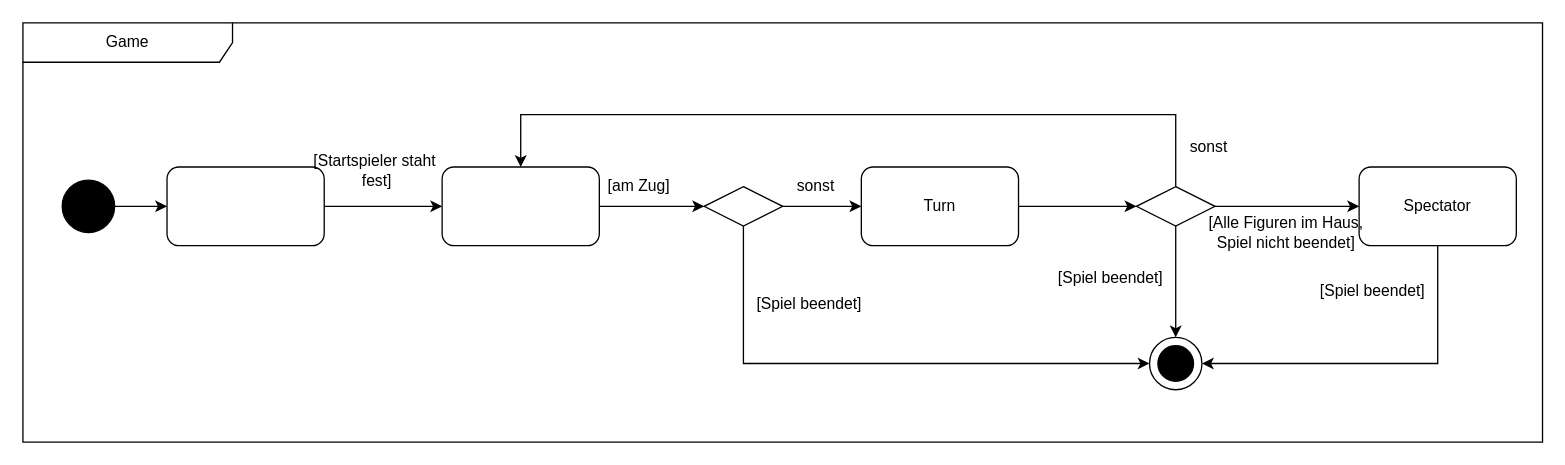
The diagram is 1565 pixels wide and 465 high, and some of its shapes have lost their labels. Each missing label, with the centre of its shape:
Determine Starting Player: point 245,206
Waiting: point 520,206
